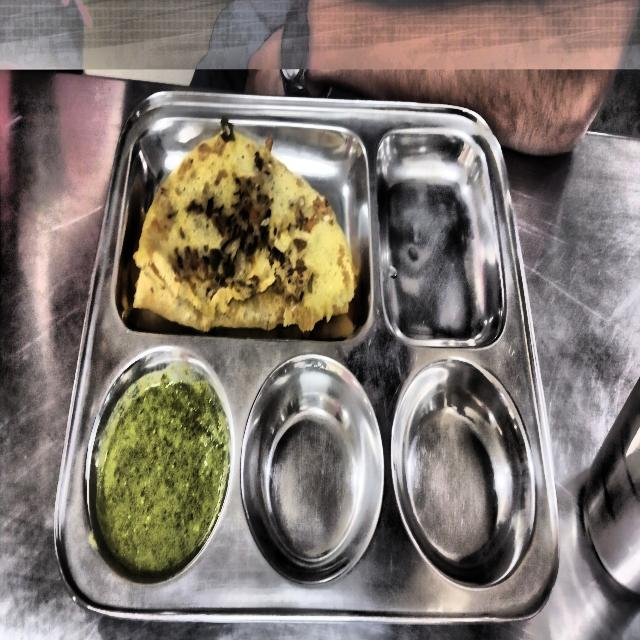Chutney: (96, 379, 226, 567)
Roti: (55, 91, 559, 623), (134, 131, 279, 268), (268, 231, 353, 309)
